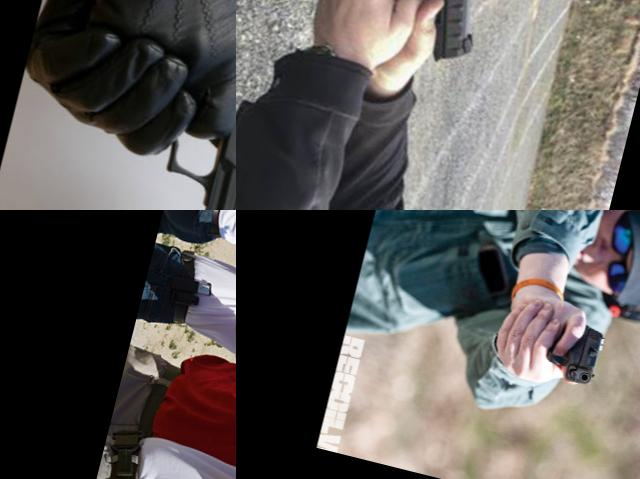handgun: (139, 0, 236, 210), (360, 0, 515, 100), (531, 308, 611, 389)
